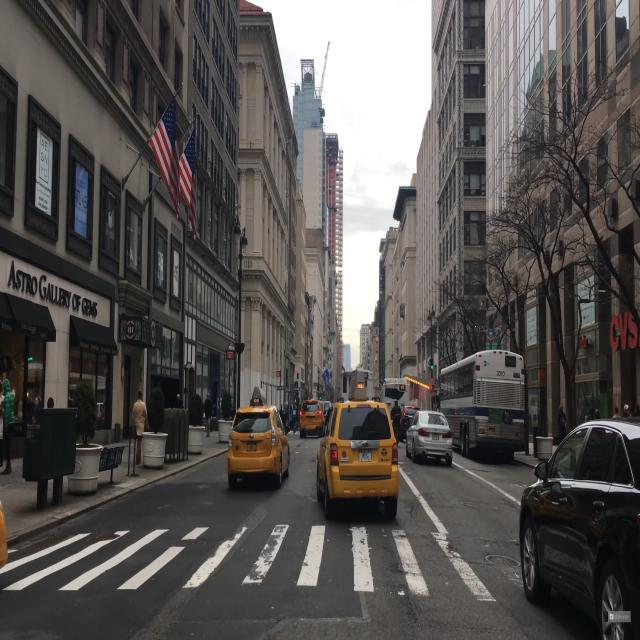Crosswalk: (4, 521, 507, 602)
